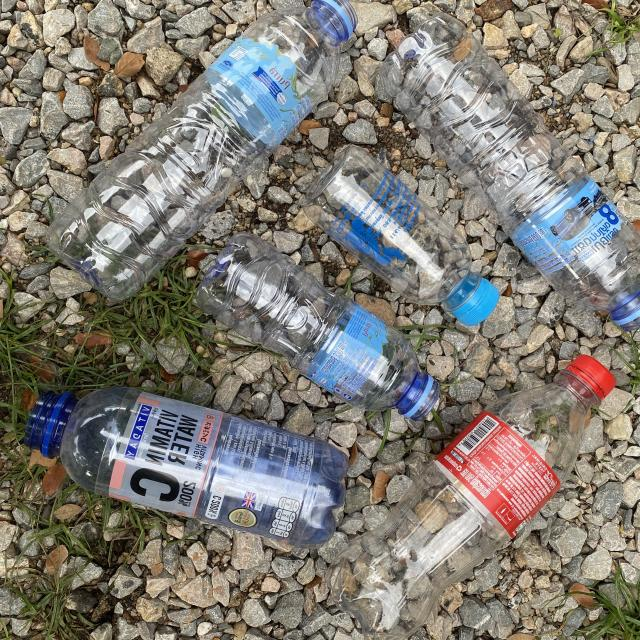plastik: (46, 0, 356, 300), (380, 13, 640, 331), (327, 356, 615, 640), (25, 387, 348, 547), (196, 232, 440, 420), (304, 145, 499, 326)
